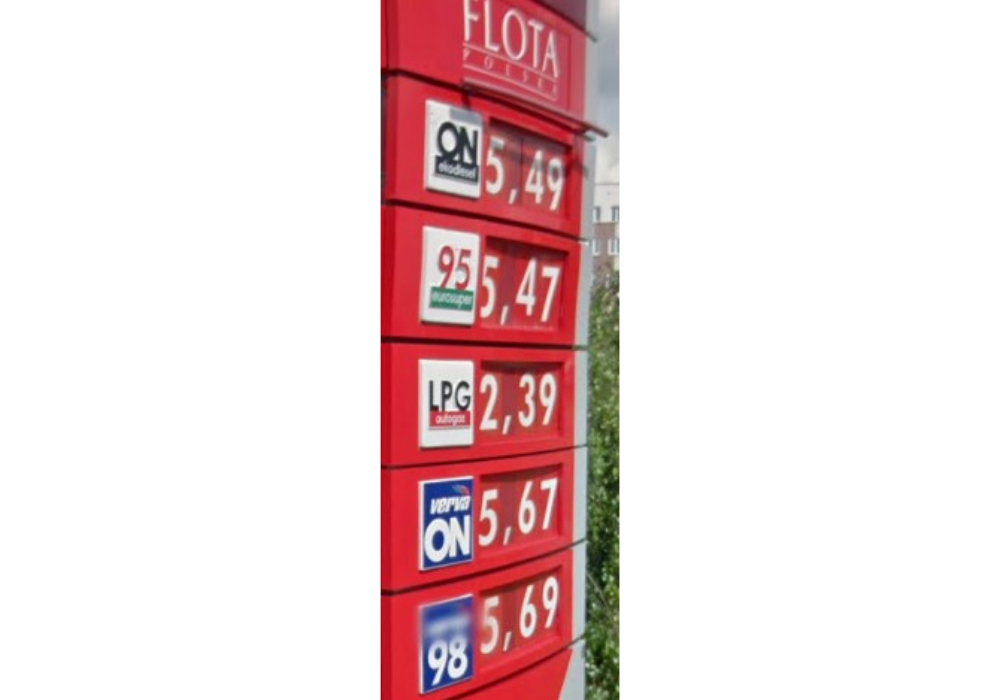LPG: (414, 353, 476, 451)
ON: (420, 95, 486, 204), (414, 470, 475, 578)
PB95: (416, 223, 484, 328)
PB98: (418, 591, 475, 699)
